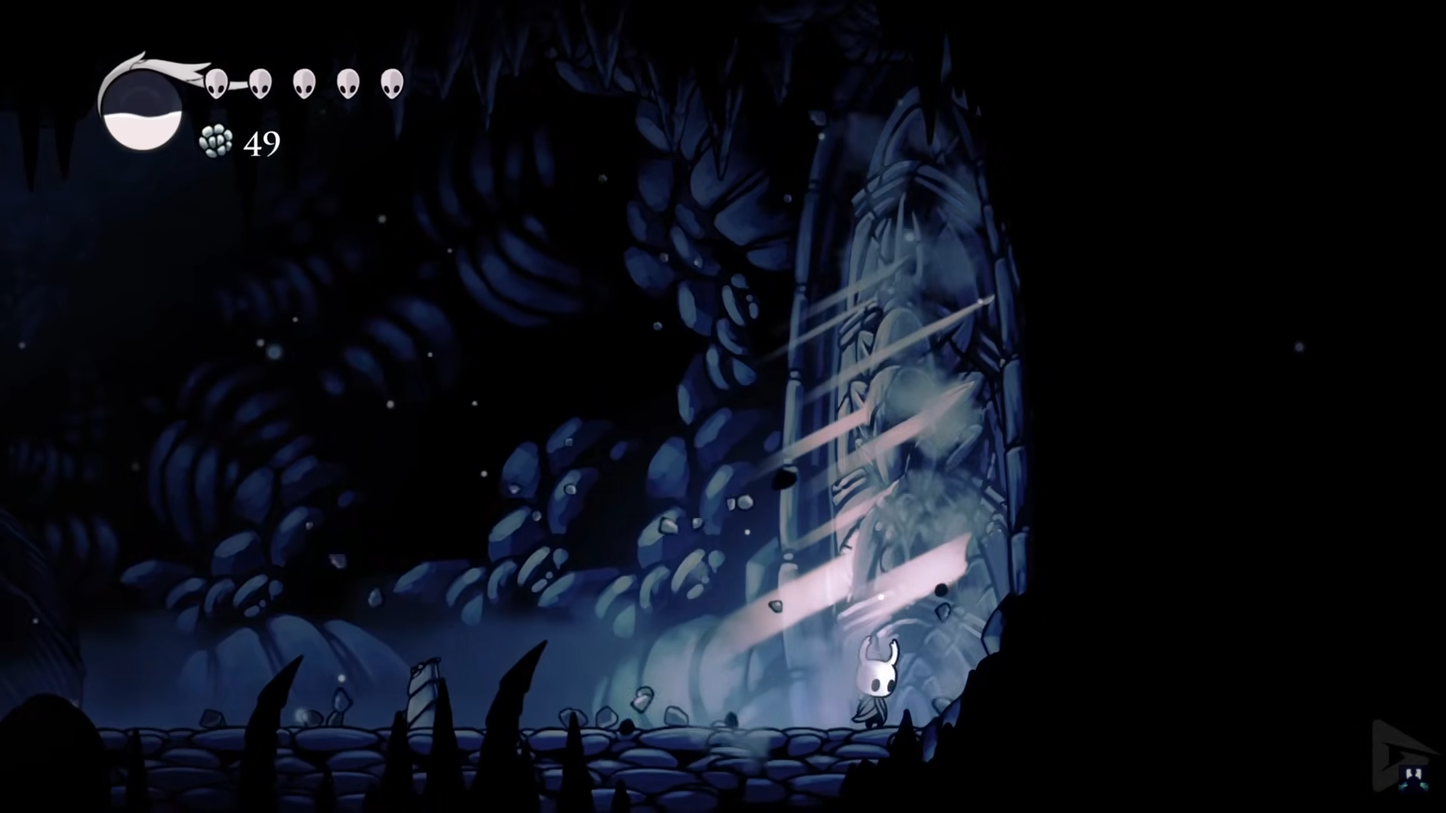HK: (846, 632, 905, 732)
